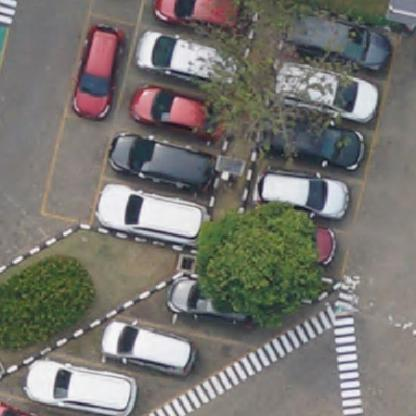car: (97, 187, 212, 250), (270, 60, 379, 121), (24, 361, 143, 415), (114, 135, 217, 195), (66, 21, 126, 121), (268, 113, 366, 174), (139, 29, 233, 88), (283, 15, 385, 69), (101, 324, 192, 381), (137, 87, 224, 141), (254, 173, 350, 214), (154, 0, 249, 33), (173, 290, 252, 327), (290, 225, 341, 271)
